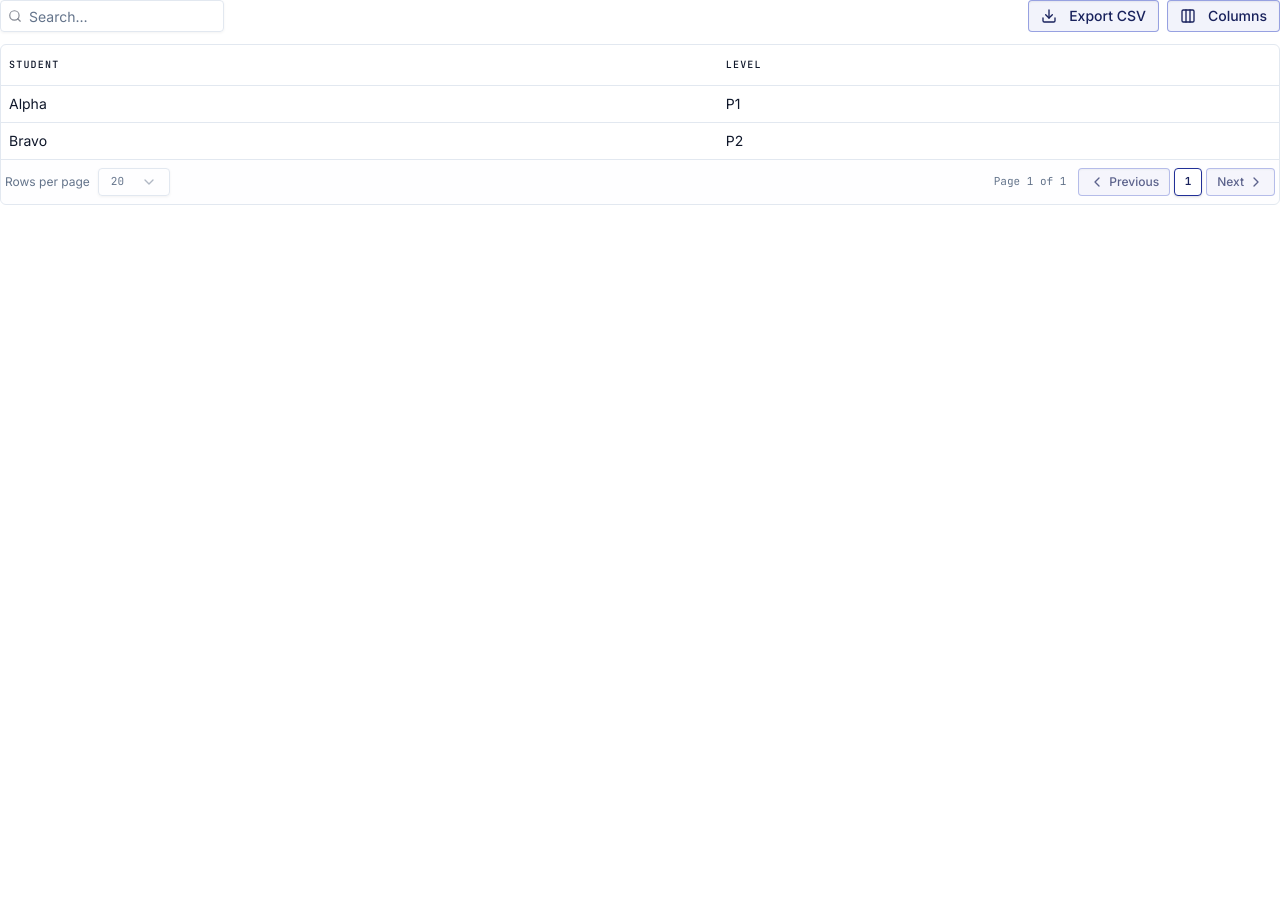
Test case: advanced export — fields › will not download with no fields chosen
The width and height of the screenshot is (1280, 900).
Click the button "Export CSV": (1094, 16) x1=1028 y1=0 x2=1159 y2=32
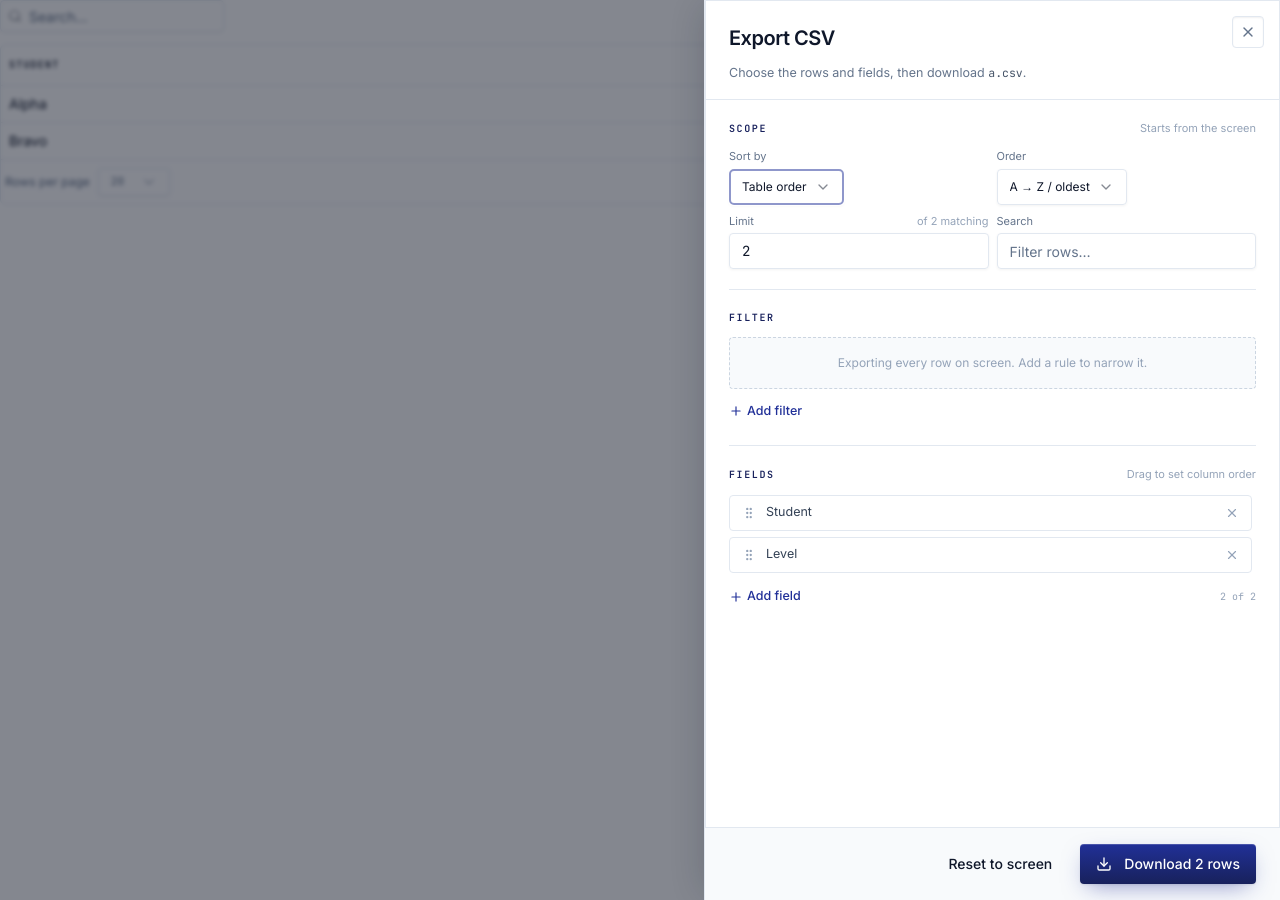
Check: the text "Drag to set column order" is shown, box x1=1127 y1=466 x2=1256 y2=483
Click the button named "remove student": (1232, 513) x1=1225 y1=506 x2=1239 y2=520
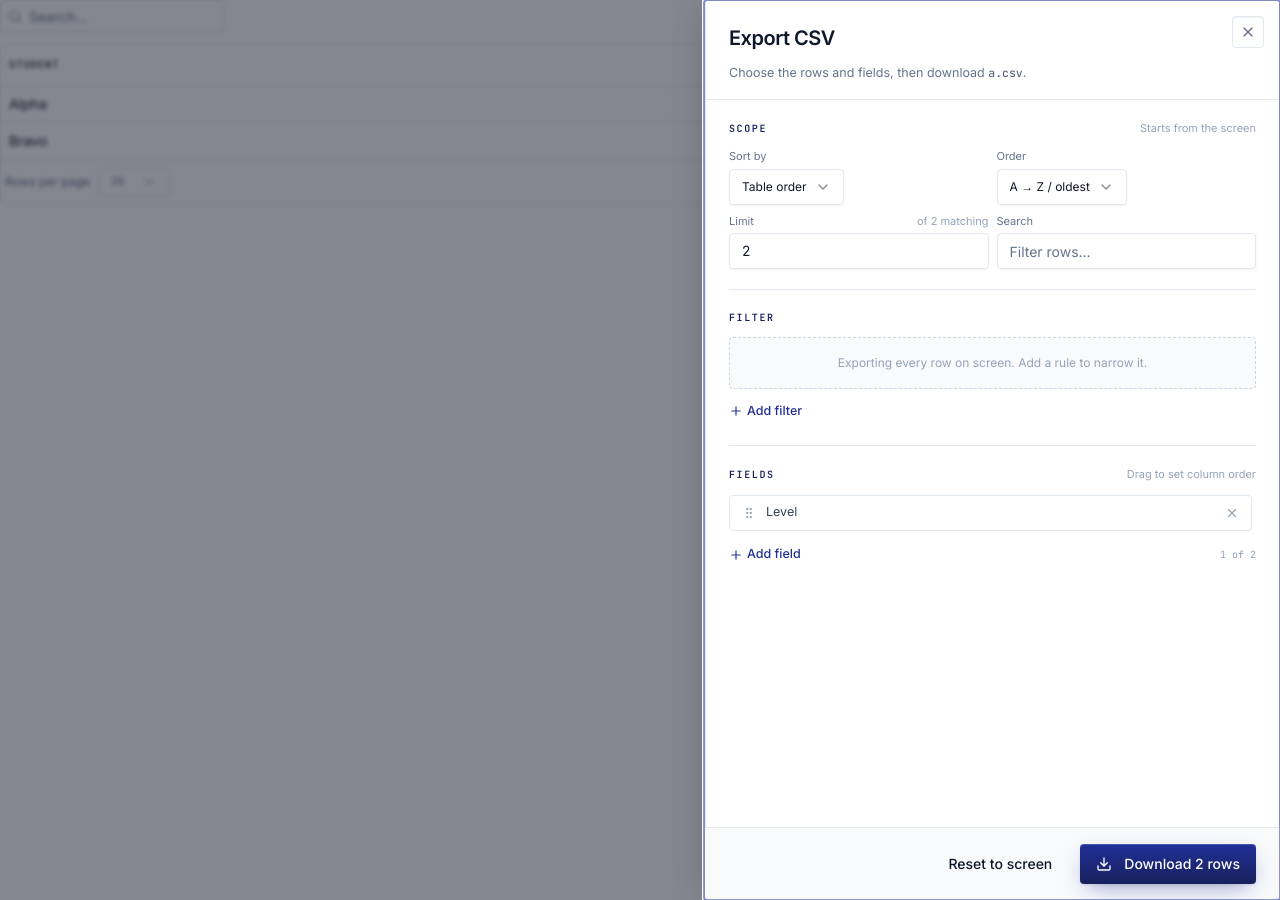
Click the button named "remove level": (1232, 513) x1=1225 y1=506 x2=1239 y2=520
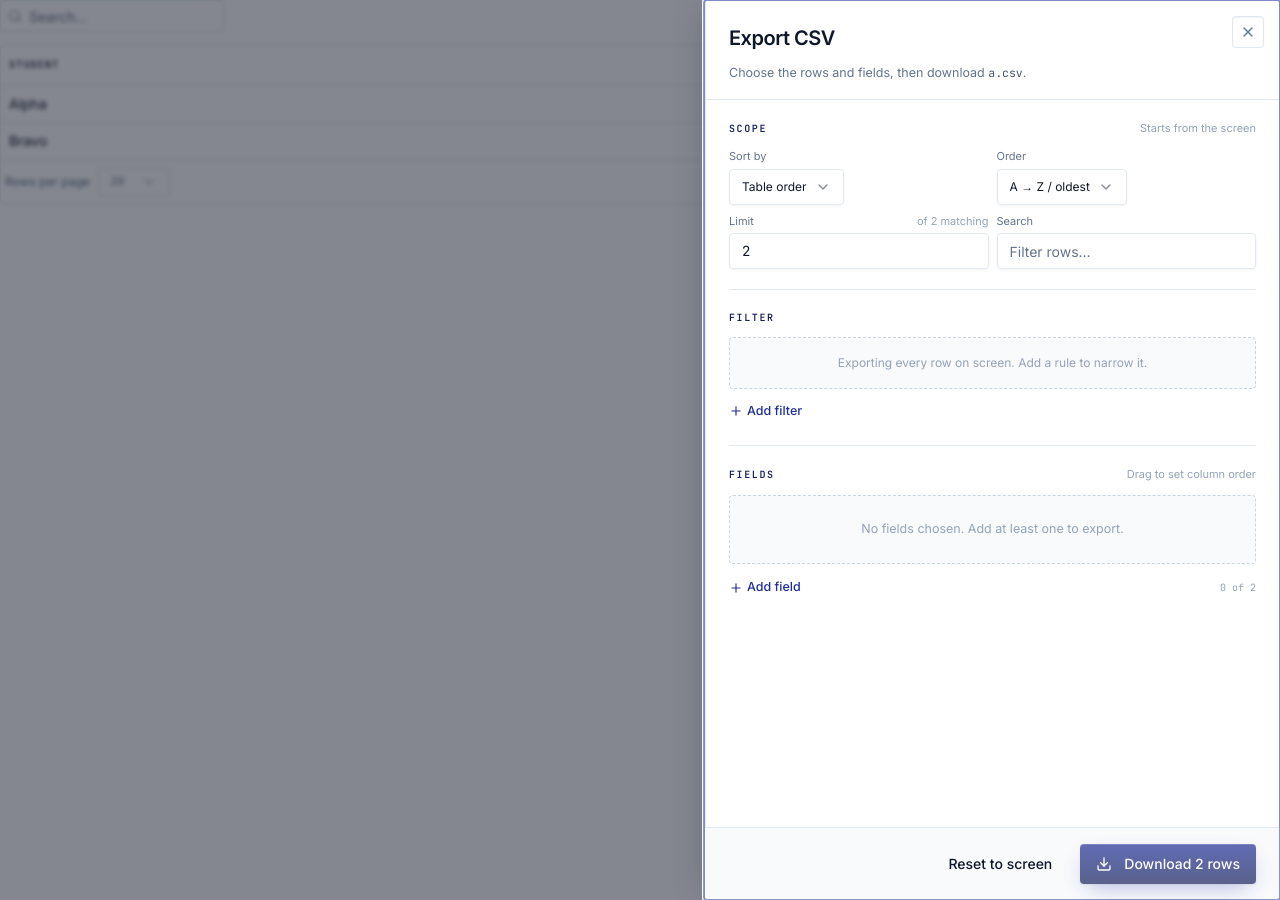
Check: the text "No fields chosen. Add at least one to export." is shown, box x1=729 y1=495 x2=1256 y2=564
Check: the button "Download 2 rows" is disabled, box x1=1080 y1=844 x2=1256 y2=884
